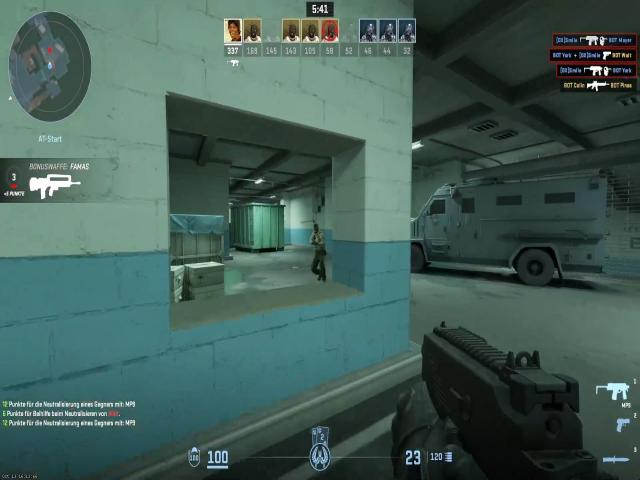T: (309, 218, 327, 264)
T-Head: (311, 220, 322, 239)
